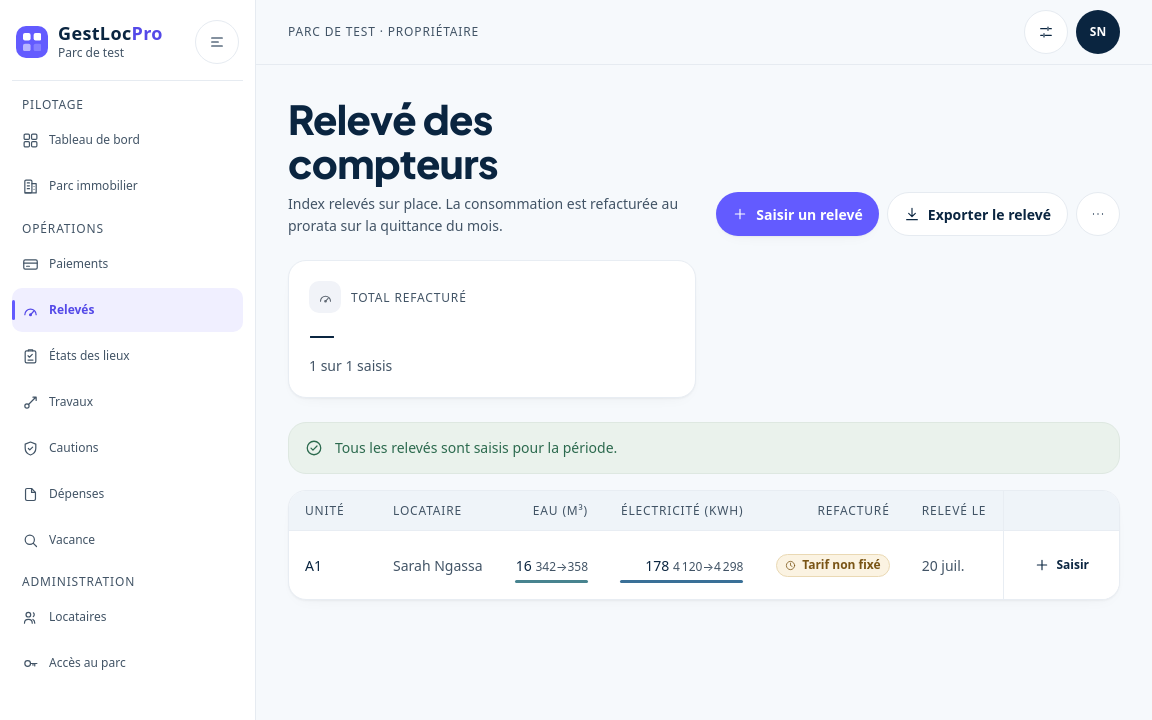
Test: poser un prix › refuse un prix nul avant même d’appeler
Click the button named "Autres actions": (1098, 214) [1076,192,1120,236]
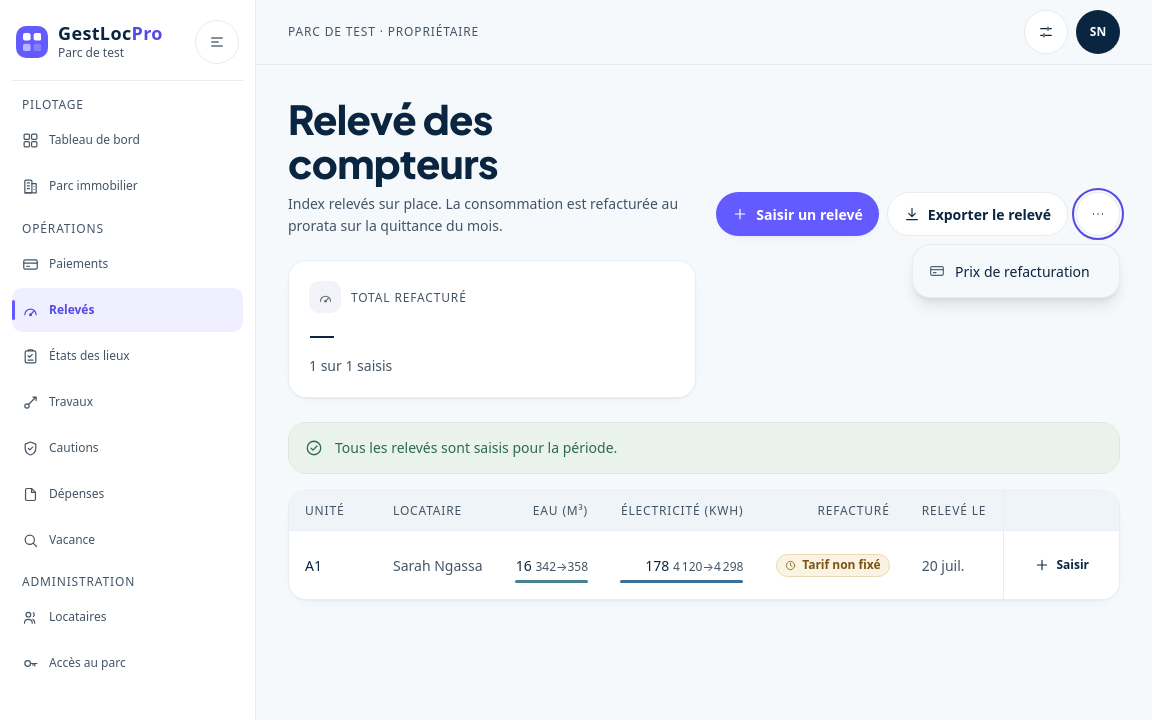
Click the menu item "Prix de refacturation": (1016, 271) [917,249,1115,293]
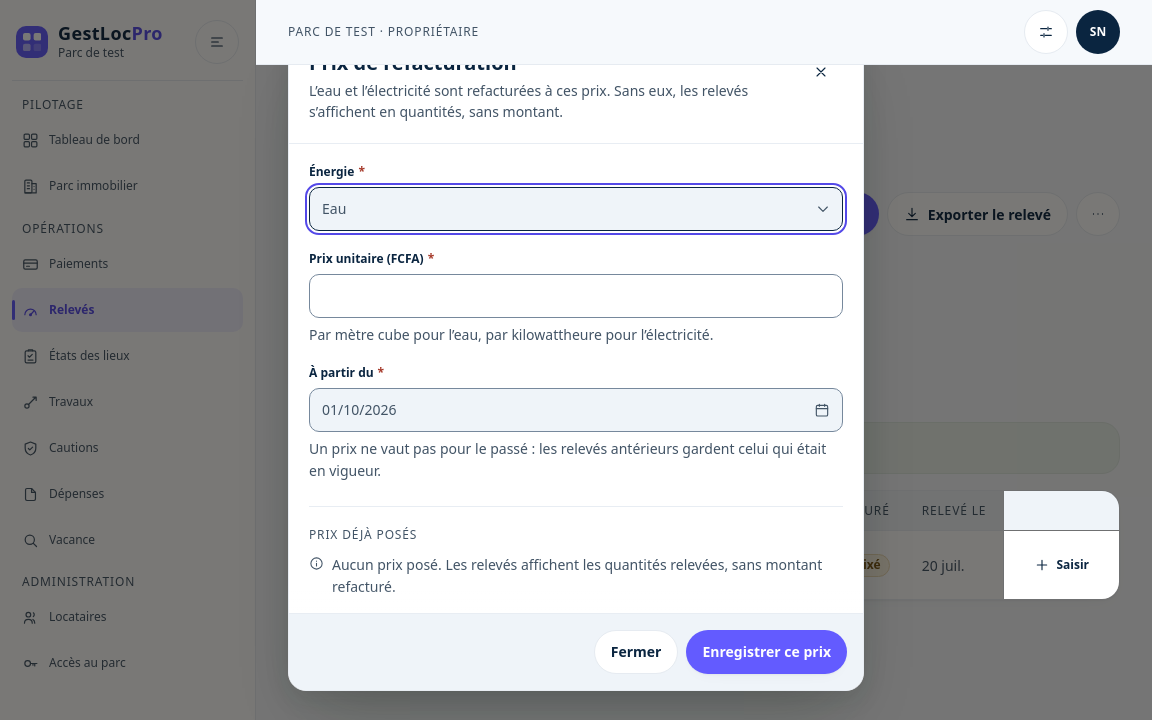
In the field labelled "Prix unitaire (FCFA)*": (576, 296) [309,274,843,318], type "0"
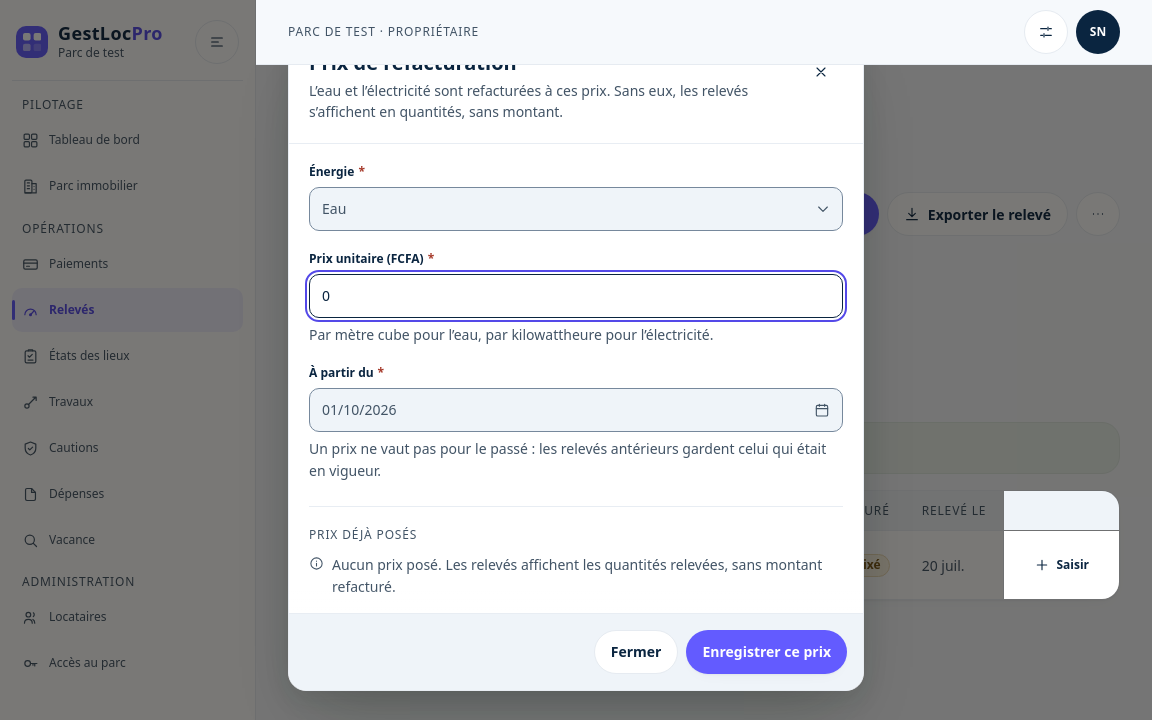
Click the button "Enregistrer ce prix": (767, 652) [686,630,847,674]
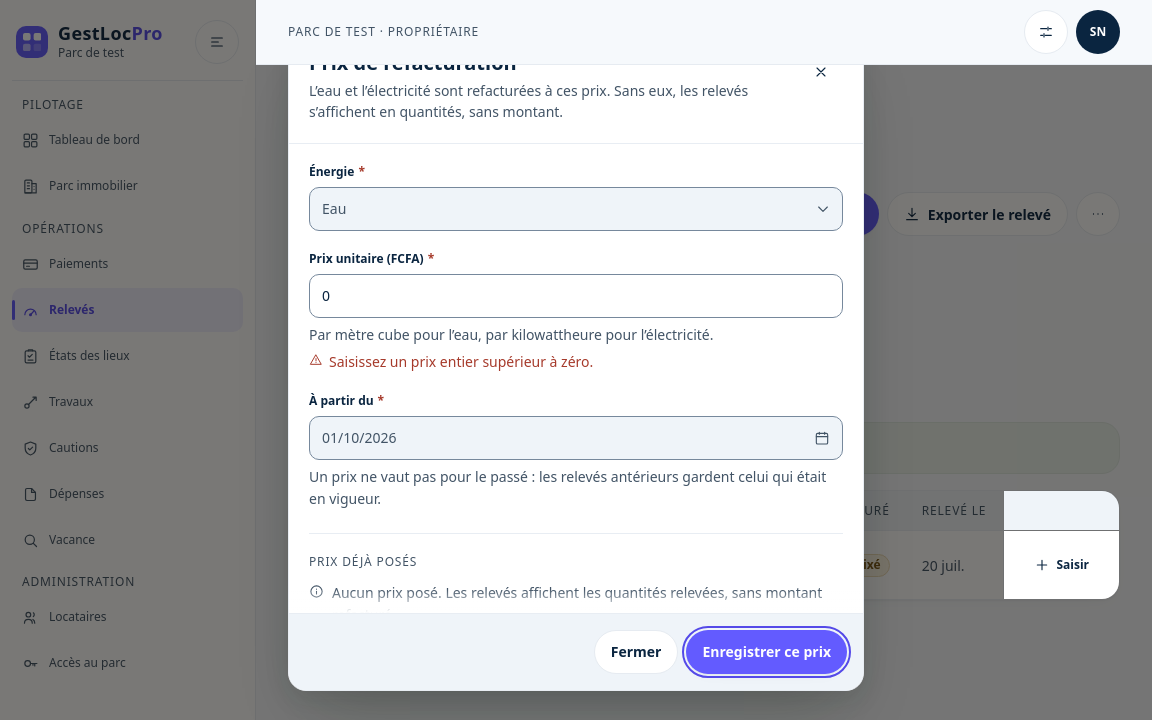
Now the text "Saisissez un prix entier supérieur à zéro." is shown, box [309,352,593,372]
